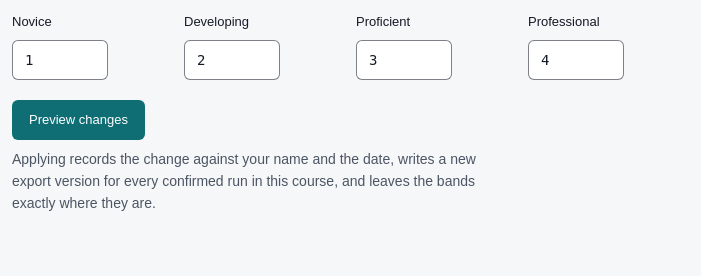
Scenario: MappingEditor (UI-030 → Mapping) › refuses an empty field
The width and height of the screenshot is (701, 276).
Step 1. Clear the field labelled "Professional" → [576, 60], box [528,40,624,80]
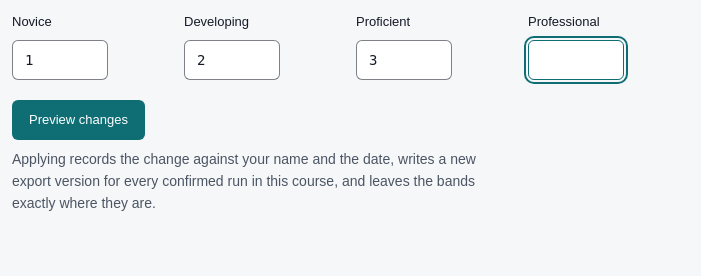
Step 2. Click the button "Preview changes" → [78, 120], box [12,100,145,140]
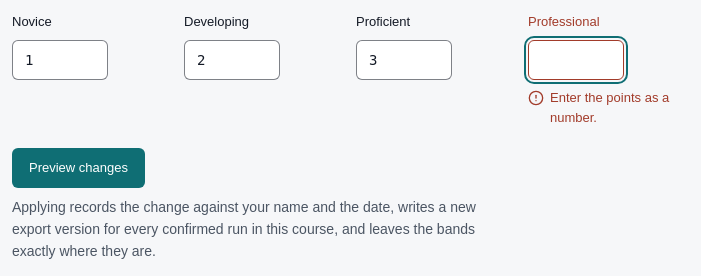
Expected: the text "Enter the points as a number." is shown, [550,88,684,128]
